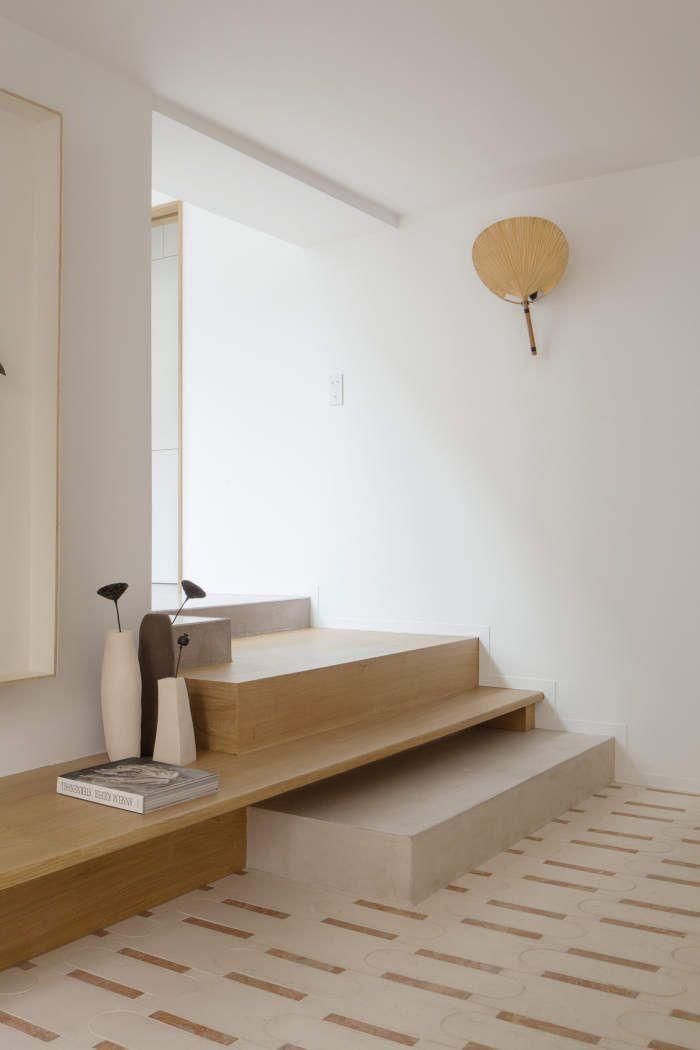floor: (0, 781, 699, 1049)
safe: (0, 686, 543, 876), (247, 725, 615, 836)
